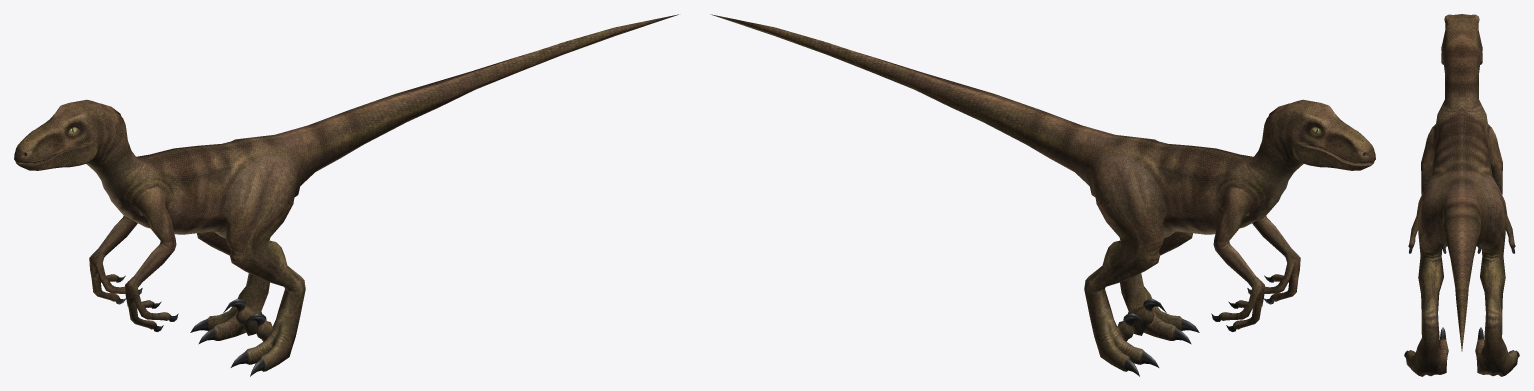
Rendered from Raptor.obj.
The picture shows the model from 3 angles, left to right: view 1: azimuth 30°, elevation 25°; view 2: azimuth 150°, elevation 25°; view 3: azimuth 270°, elevation 25°; orthographic projection. The views are drawn at different scales.
Visible parts, largest first — view 1: Raptor; view 2: Raptor; view 3: Raptor.
Part boxes in pixels (<box>): Raptor: <box>14,14,678,376</box>; Raptor: <box>711,14,1375,376</box>; Raptor: <box>1404,14,1519,376</box>.
Bounding box in the file's own units: 211 × 85.99 × 32.97.
